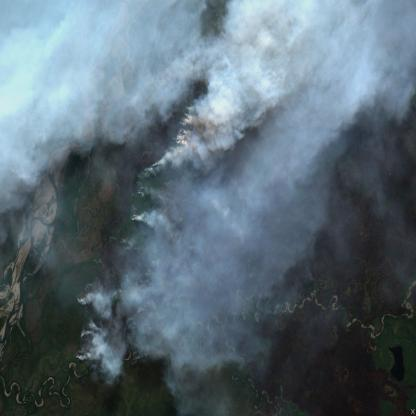fire: (67, 288, 94, 368), (169, 96, 197, 155), (132, 156, 154, 186), (127, 193, 145, 228)
